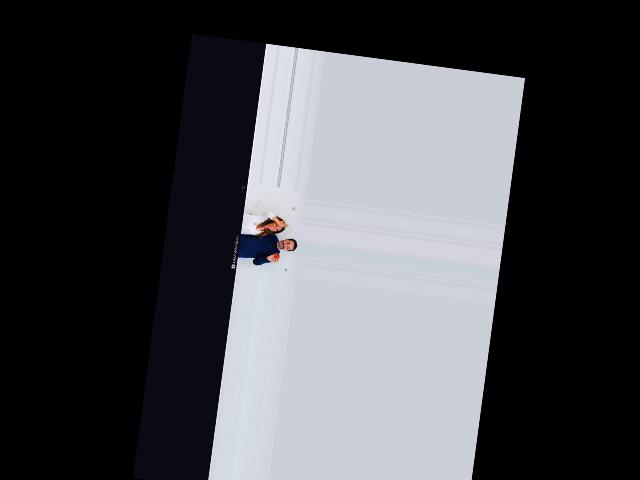tomato: (274, 253, 280, 258)
